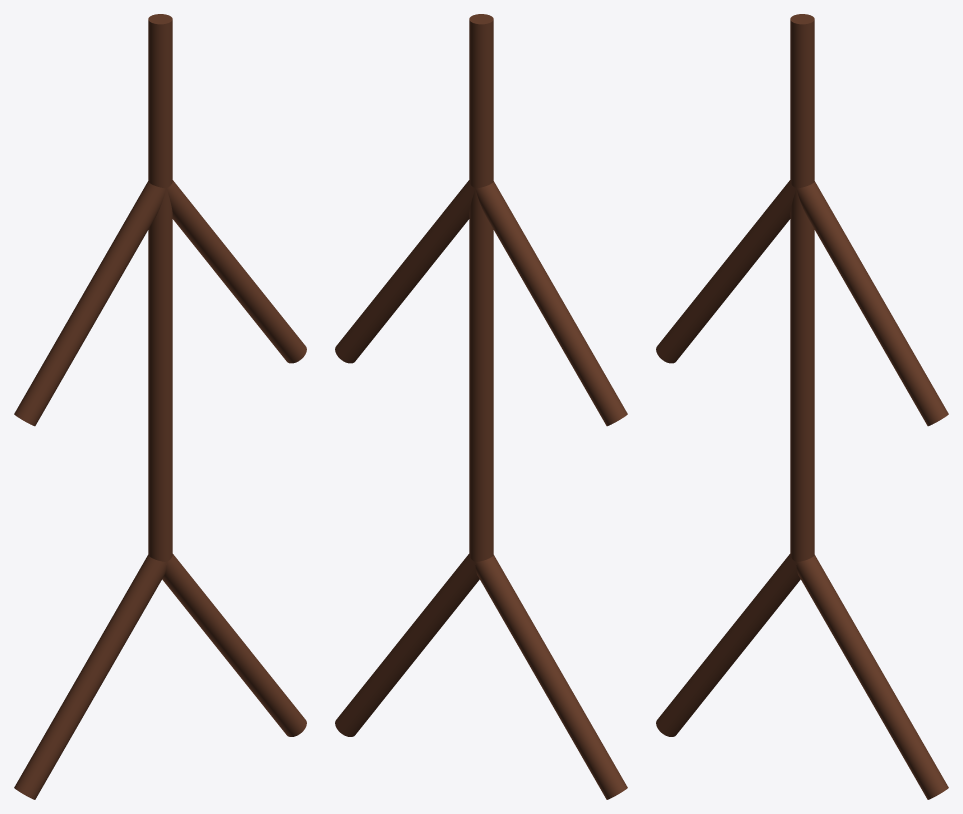
Rendered from Stickman_Tour.fbx.
3 views of the same model, side by side, from view 1: azimuth 30°, elevation 25°; view 2: azimuth 150°, elevation 25°; view 3: azimuth 330°, elevation 25° (orthographic).
Parts seen in each view (by area): view 1: Stickman_Base, Stickman_Legs, Stickman_Arm_R, Stickman_Arm_L; view 2: Stickman_Base, Stickman_Legs, Stickman_Arm_R, Stickman_Arm_L; view 3: Stickman_Base, Stickman_Legs, Stickman_Arm_L, Stickman_Arm_R.
Part boxes in pixels (x1,y1,x2,y2): Stickman_Base: (148, 14, 172, 564); Stickman_Legs: (14, 554, 306, 799); Stickman_Arm_R: (14, 181, 166, 426); Stickman_Arm_L: (166, 180, 306, 363); Stickman_Base: (469, 14, 493, 564); Stickman_Legs: (335, 554, 627, 799); Stickman_Arm_R: (475, 181, 627, 426); Stickman_Arm_L: (335, 180, 475, 363); Stickman_Base: (790, 14, 814, 564); Stickman_Legs: (656, 554, 948, 799); Stickman_Arm_L: (796, 181, 948, 426); Stickman_Arm_R: (656, 180, 796, 363).
Bounding box in the file's own units: 73.24 × 181 × 5.38.
